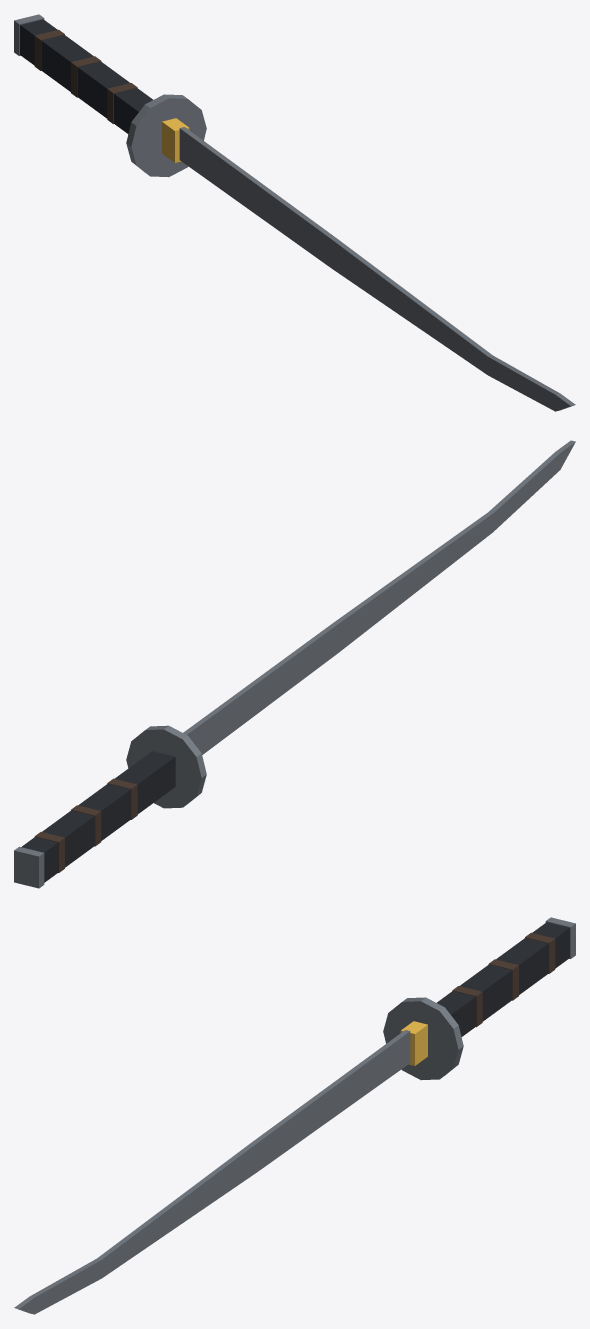
The model's file is katana.glb.
The picture shows the model from 3 angles, top to bottom: view 1: azimuth 30°, elevation 25°; view 2: azimuth 150°, elevation 25°; view 3: azimuth 330°, elevation 25°; orthographic projection.
Visible parts, largest first — view 1: katana_mesh; view 2: katana_mesh; view 3: katana_mesh.
Boxes of the visible parts, x1=… form: katana_mesh: x1=14, y1=14, x2=575, y2=411; katana_mesh: x1=14, y1=440, x2=575, y2=888; katana_mesh: x1=14, y1=917, x2=575, y2=1314.
Bounding box in the file's own units: 0.084 × 0.084 × 1.05.
Materials: 1 (1 with a texture image).
